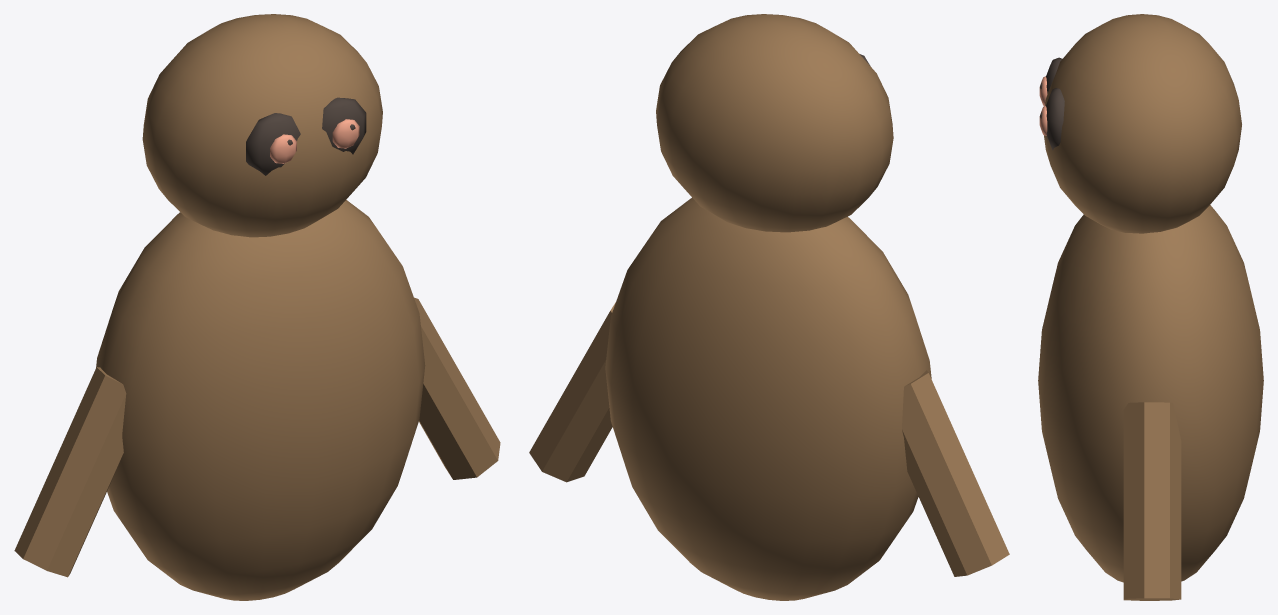
File: monster_treant.glb
3 views of the same model, side by side, from view 1: azimuth 30°, elevation 25°; view 2: azimuth 150°, elevation 25°; view 3: azimuth 270°, elevation 25° (orthographic). The views are drawn at different scales.
Parts seen in each view (by area): view 1: monster_treant_root; view 2: monster_treant_root; view 3: monster_treant_root.
Boxes of the visible parts, left/top/right/bottom form: monster_treant_root: left=14, top=14, right=500, bottom=600; monster_treant_root: left=529, top=14, right=1009, bottom=600; monster_treant_root: left=1038, top=14, right=1263, bottom=600.
Bounding box in the file's own units: 2.79 × 3.2 × 1.19.
